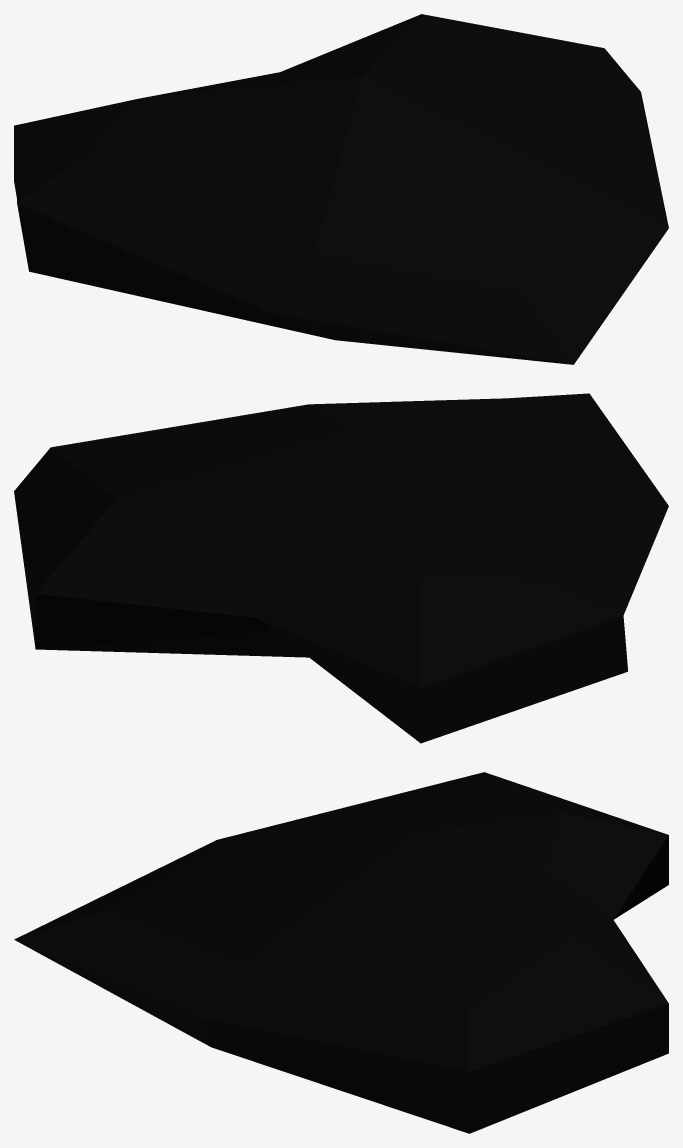
File: ArrowHead.fbx
The picture shows the model from 3 angles, top to bottom: view 1: azimuth 30°, elevation 25°; view 2: azimuth 150°, elevation 25°; view 3: azimuth 270°, elevation 25°; orthographic projection. The views are drawn at different scales.
Visible parts, largest first — view 1: Stone; view 2: Stone; view 3: Stone.
Part boxes in pixels (left/top/right/bottom): Stone: left=14, top=14, right=668, bottom=364; Stone: left=14, top=393, right=668, bottom=743; Stone: left=14, top=772, right=668, bottom=1133.
Size of the model in its own units: 20.73 by 6.46 by 21.22.
